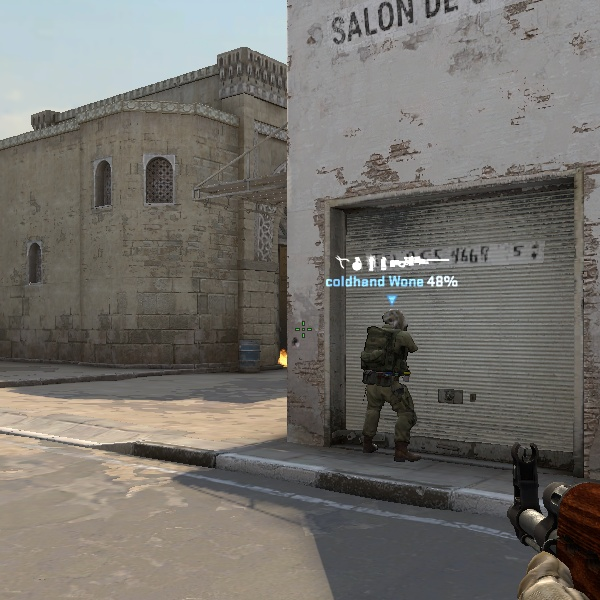ct_body: (346, 303, 429, 460)
ct_head: (380, 305, 412, 337)
